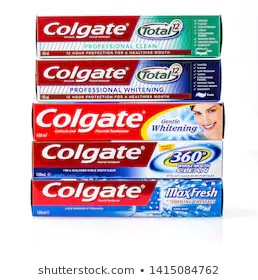colgate-medium: (35, 16, 222, 59), (36, 59, 222, 99), (34, 102, 222, 141), (33, 141, 222, 178), (30, 181, 222, 216)
